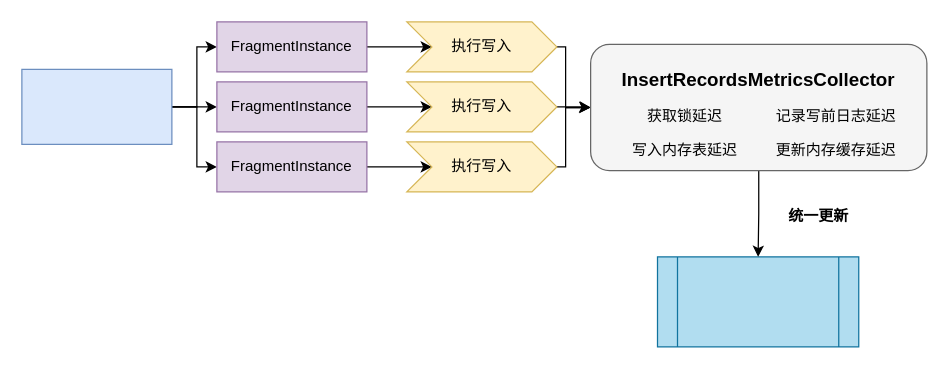
Image size: 949x369. Some labels were removed from this diagram. The centre of each missing label's shape, as x and y in pixels:
"InsertRecords 请求" goes at point 96,106.
"监控系统" goes at point 757,301.
